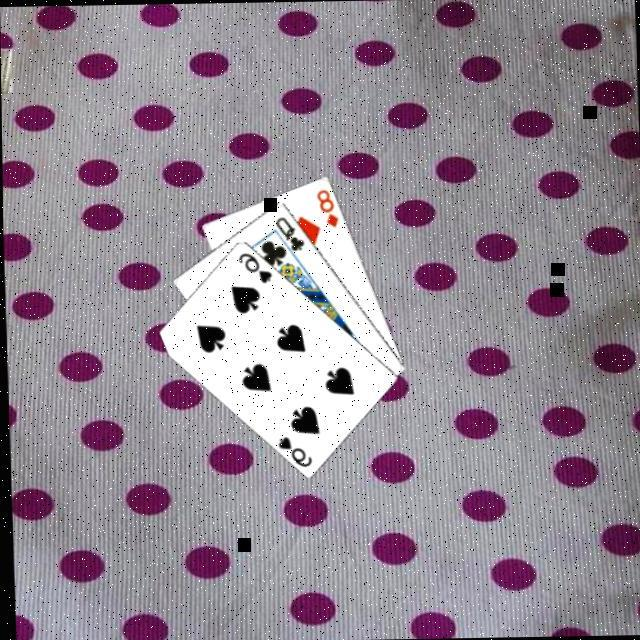6S: (273, 430, 314, 468), (235, 246, 274, 284)
8D: (314, 184, 342, 228)
QC: (271, 211, 306, 252)
